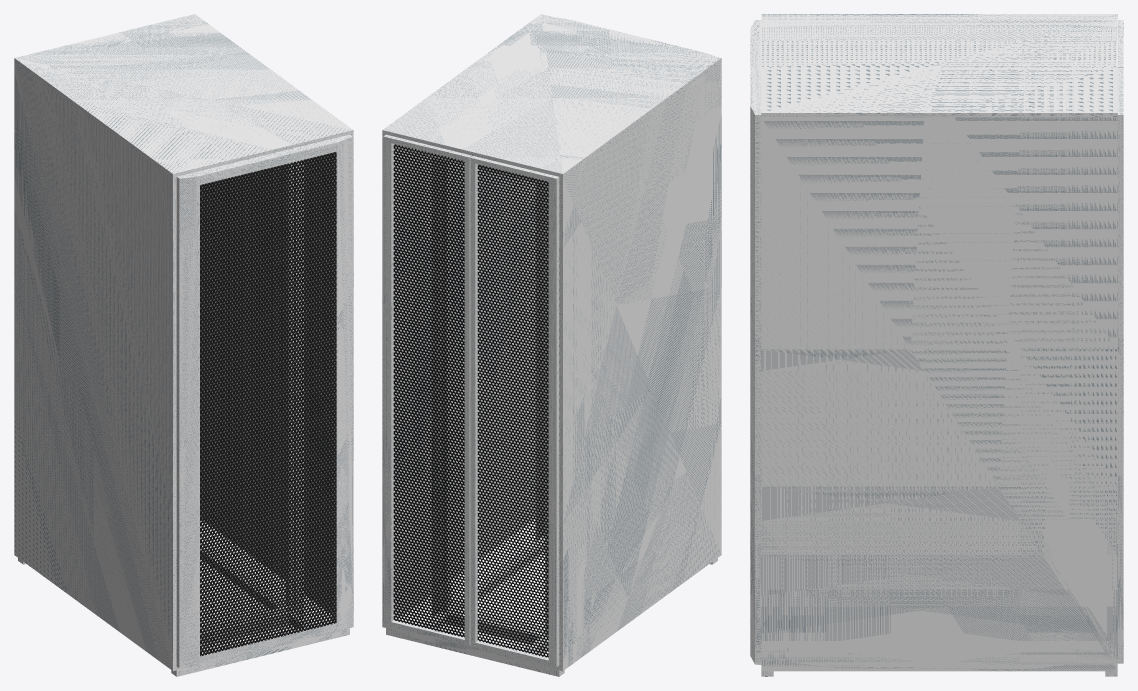
The picture shows the model from 3 angles, left to right: view 1: azimuth 30°, elevation 25°; view 2: azimuth 150°, elevation 25°; view 3: azimuth 270°, elevation 25°; orthographic projection. The views are drawn at different scales.
Parts seen in each view (by area): view 1: Side_Panel_1_1, Front_Door_Glass (×2), Top_Cap, Side_Panel_1, Front_Door_2 (×2), Front_Door_1, Component_1, Rail_3; view 2: Side_Panel_1_1, Rear_Split_Door_Glass_1, Top_Cap, Rear_Split_Door_Glass_2, Side_Panel_1, Rear_Split_Door_1 (×2), Rear_Split_Door_2 (×2), Component_1, Rail_1, Rail_2; view 3: Side_Panel_1, Top_Cap, Front_Door_1, Rear_Split_Door_2, Front_Door_2.
Boxes of the visible parts, x1=… form: Side_Panel_1_1: x1=14, y1=62, x2=176, y2=670; Front_Door_Glass (×2): x1=200, y1=152, x2=336, y2=656; Top_Cap: x1=14, y1=14, x2=353, y2=178; Side_Panel_1: x1=200, y1=134, x2=353, y2=627; Front_Door_2 (×2): x1=176, y1=134, x2=352, y2=668; Front_Door_1: x1=179, y1=136, x2=352, y2=665; Component_1: x1=18, y1=159, x2=349, y2=676; Rail_3: x1=286, y1=162, x2=294, y2=611; Side_Panel_1_1: x1=559, y1=62, x2=721, y2=670; Rear_Split_Door_Glass_1: x1=393, y1=144, x2=464, y2=637; Top_Cap: x1=382, y1=14, x2=721, y2=178; Rear_Split_Door_Glass_2: x1=477, y1=165, x2=548, y2=657; Side_Panel_1: x1=382, y1=134, x2=535, y2=627; Rear_Split_Door_1 (×2): x1=470, y1=156, x2=559, y2=667; Rear_Split_Door_2 (×2): x1=383, y1=134, x2=471, y2=645; Component_1: x1=386, y1=144, x2=717, y2=676; Rail_1: x1=441, y1=160, x2=451, y2=611; Rail_2: x1=545, y1=186, x2=548, y2=636; Side_Panel_1: x1=761, y1=117, x2=1117, y2=671; Top_Cap: x1=761, y1=14, x2=1117, y2=117; Front_Door_1: x1=750, y1=106, x2=761, y2=662; Rear_Split_Door_2: x1=1117, y1=67, x2=1123, y2=663; Front_Door_2: x1=750, y1=20, x2=761, y2=664.
Size of the model in its own units: 31.5 by 50.29 by 84.24.
7 materials, 2 textured.
